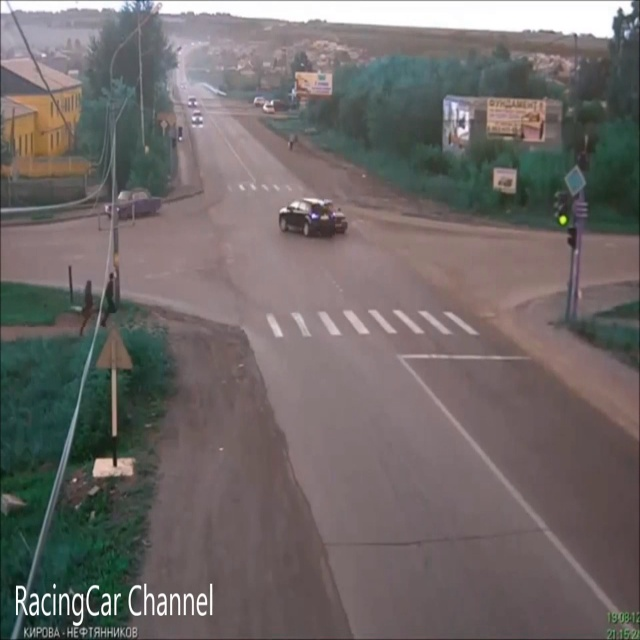acc: (270, 192, 350, 246)
